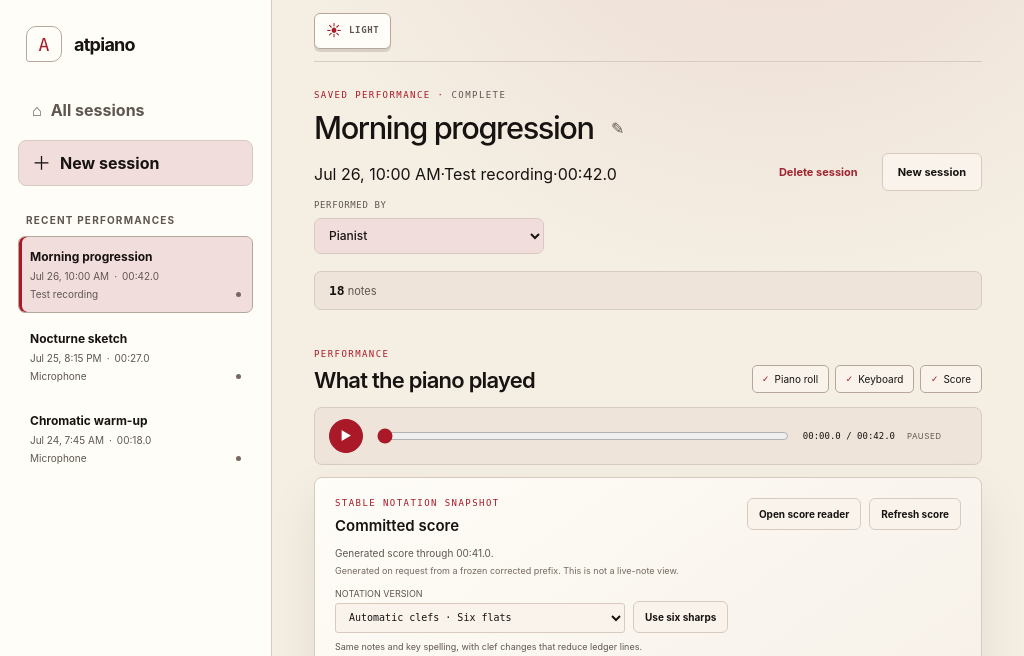
shared application › leaves rendering state when score-job polling fails
Expected: the heading "Morning progression" is shown, x1=314 y1=111 x2=594 y2=145
Click the button "Refresh score".
click(915, 514)  # box x1=869 y1=498 x2=961 y2=530
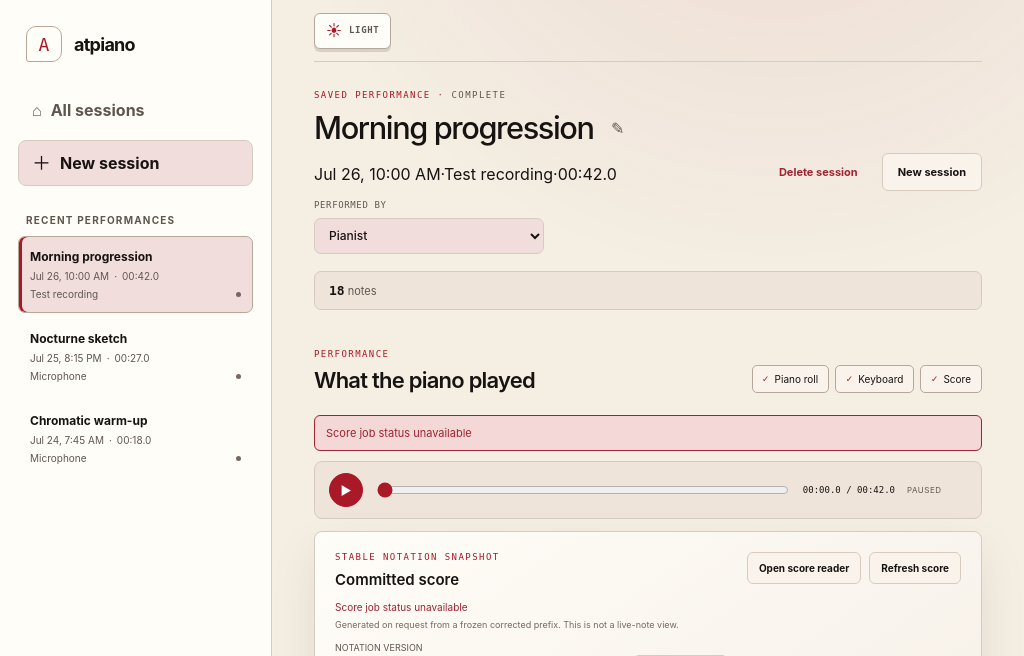
Expected: the button "Refresh score" is enabled, x1=869 y1=552 x2=961 y2=584
Expected: the text "Score job status unavailable" is shown 2 times, x1=314 y1=415 x2=982 y2=451; x1=335 y1=601 x2=468 y2=613
